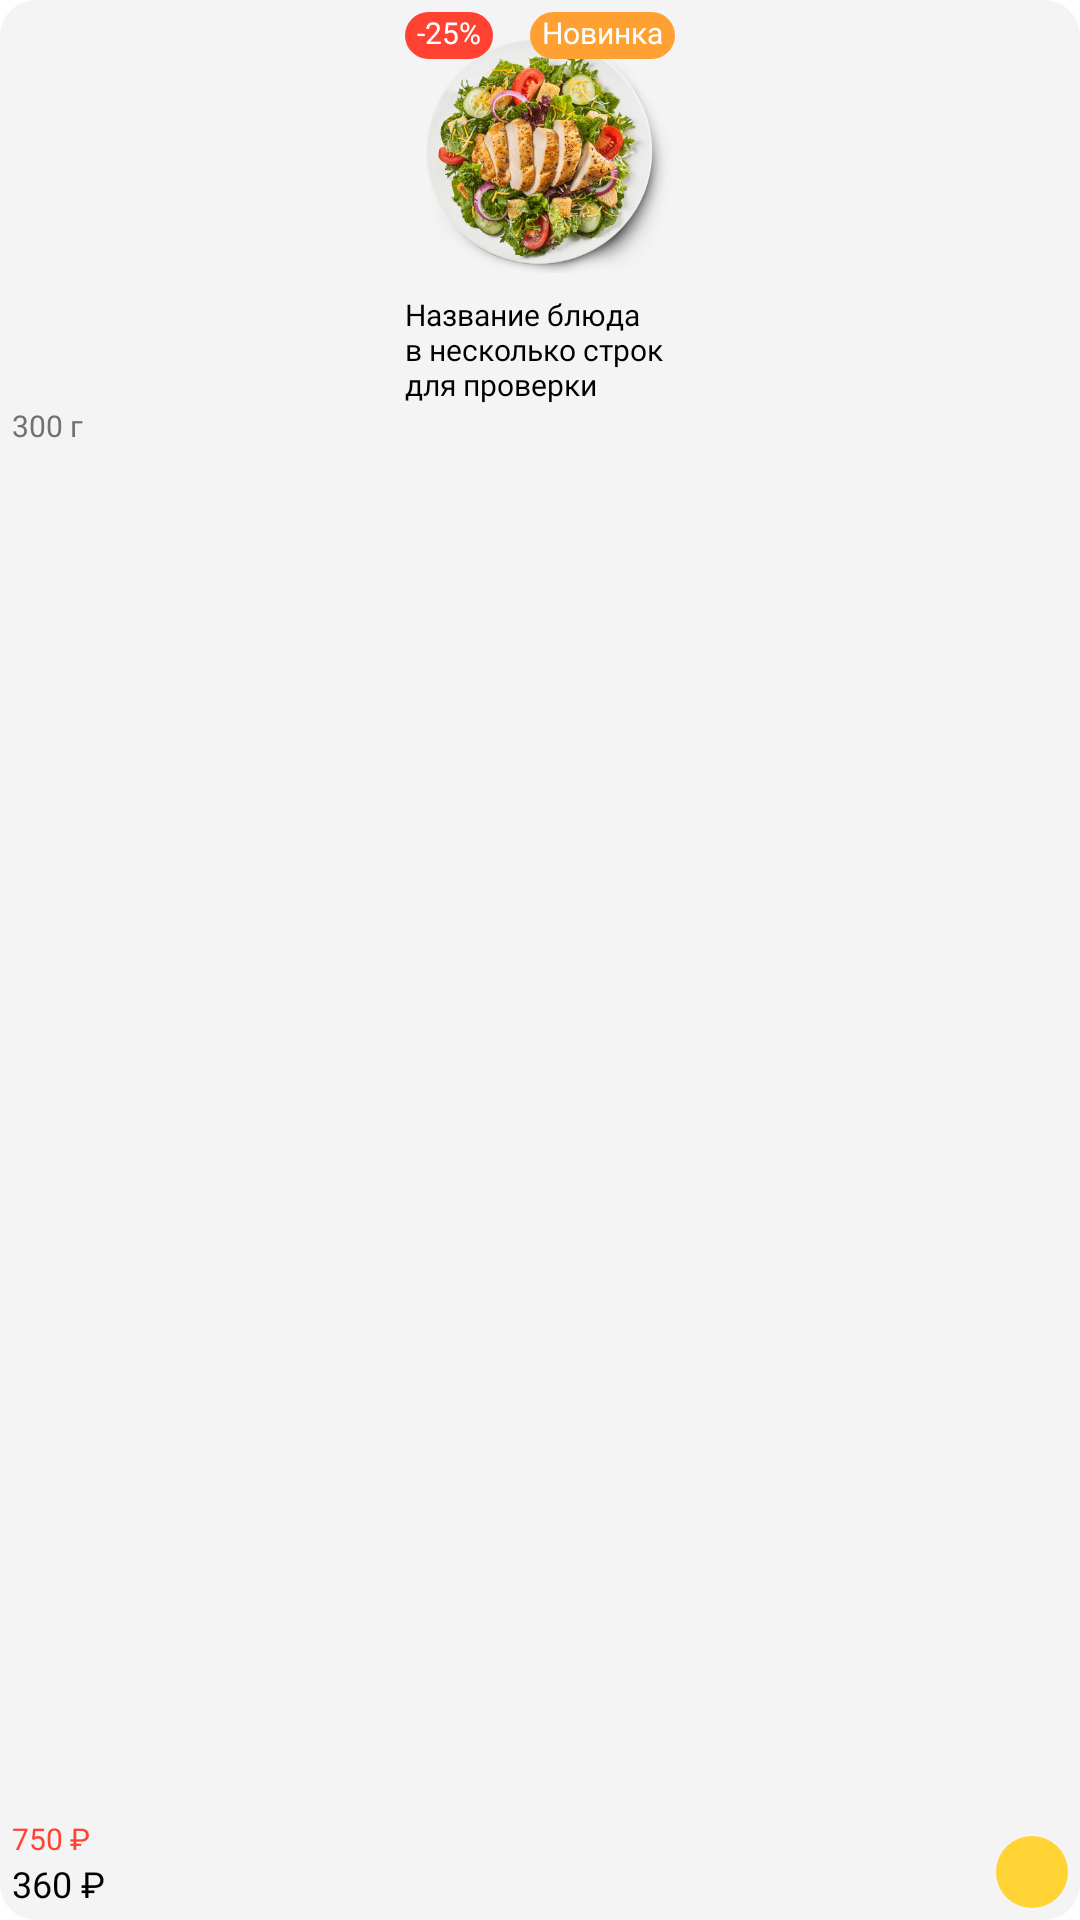

Icons on this 1080 × 1920 Android screen, each with the point to tap as point (x, y):
Promotion Image Placeholder: point (540, 140)
